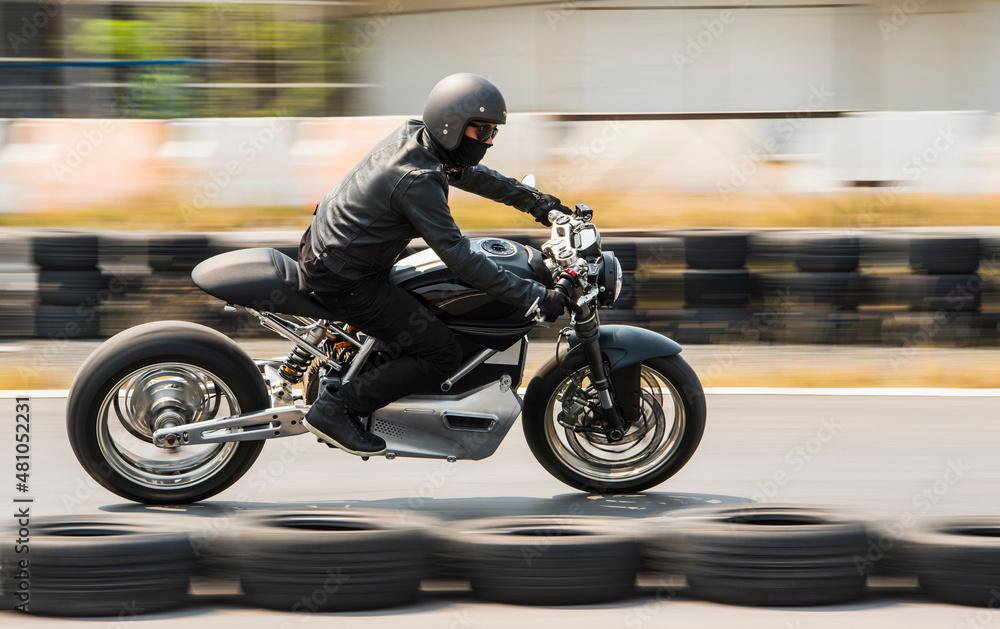helmet: (422, 72, 508, 172)
